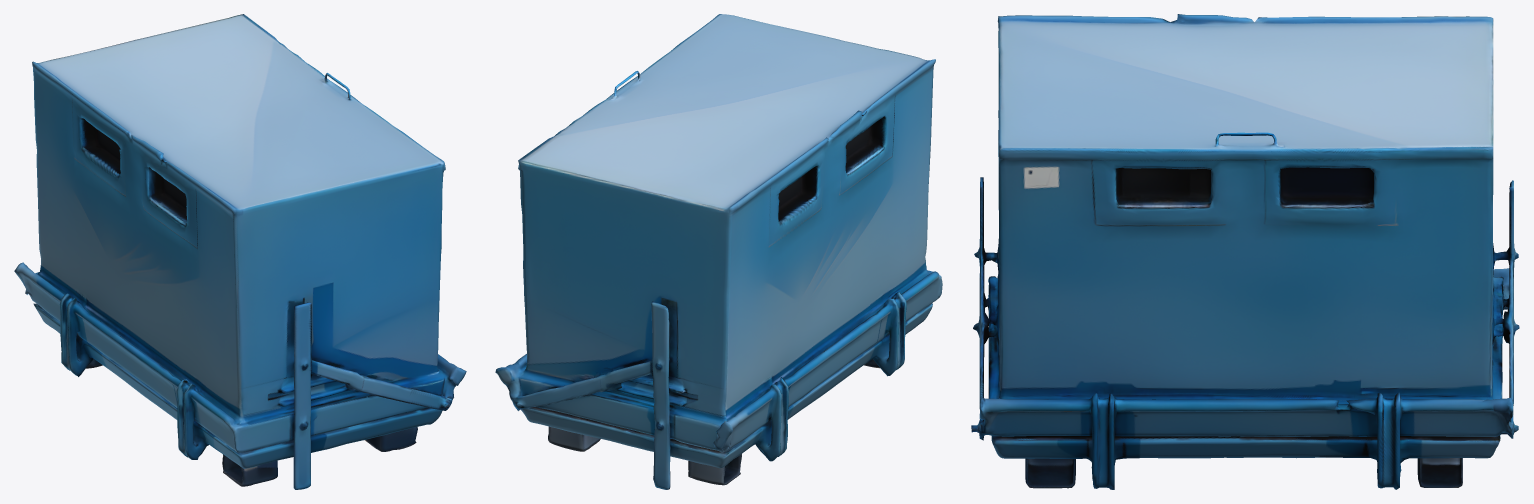
The model's file is BlueClosedHopper_base_basic_pbr.fbx.
3 renders of one model, left to right at view 1: azimuth 30°, elevation 25°; view 2: azimuth 150°, elevation 25°; view 3: azimuth 270°, elevation 25°, orthographic. The views are drawn at different scales.
Parts seen in each view (by area): view 1: model; view 2: model; view 3: model.
Part boxes in pixels (box(x1,y1,x2,y2)): model: box(14, 14, 466, 489); model: box(495, 14, 942, 489); model: box(971, 14, 1519, 489).
Size of the model in its own units: 115 by 138 by 189.
Materials: 1 (1 with a texture image).
